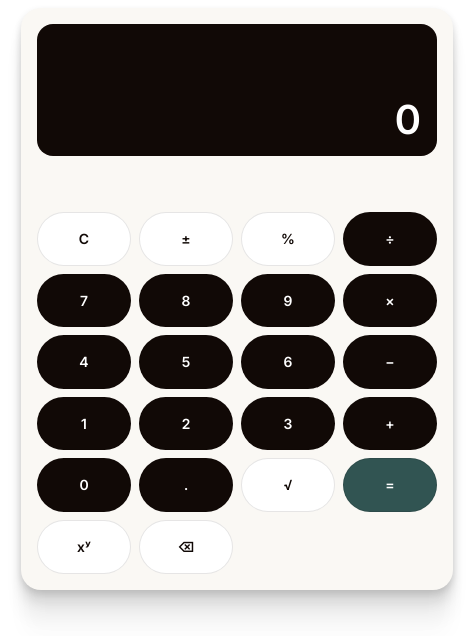
Test: Calculator component › handles square root (unary)
Click the button "9": [288, 300] box x1=241 y1=274 x2=335 y2=327
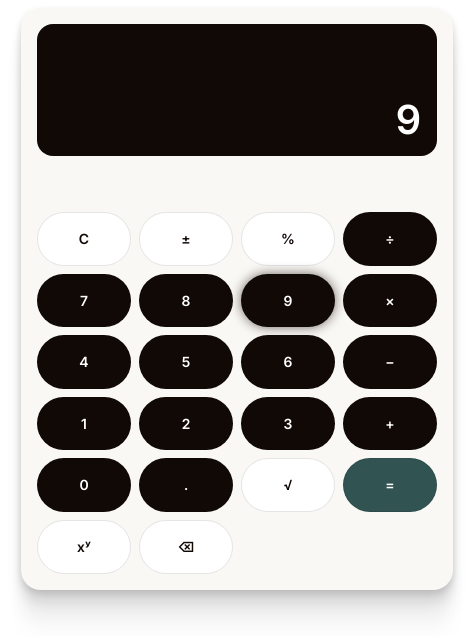
Click the button named "Square root": [288, 485] box x1=241 y1=458 x2=335 y2=512
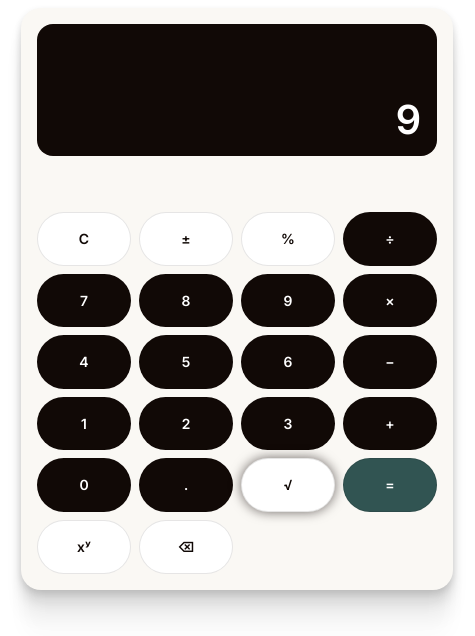
Click the button named "Equals": [390, 485] box x1=343 y1=458 x2=437 y2=512
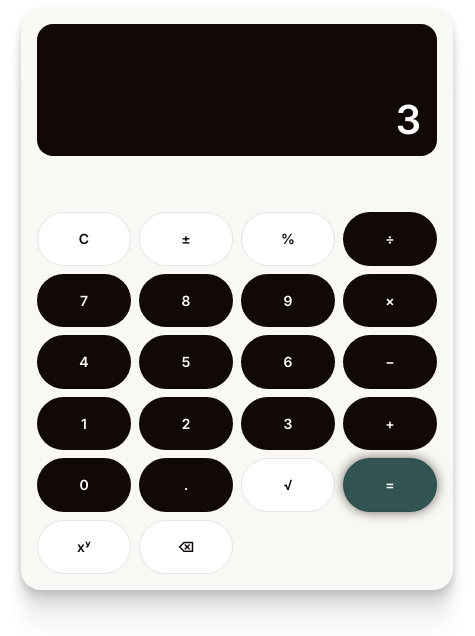
Expected: the message named "Calculator display" reads "3", x1=396 y1=95 x2=421 y2=144
